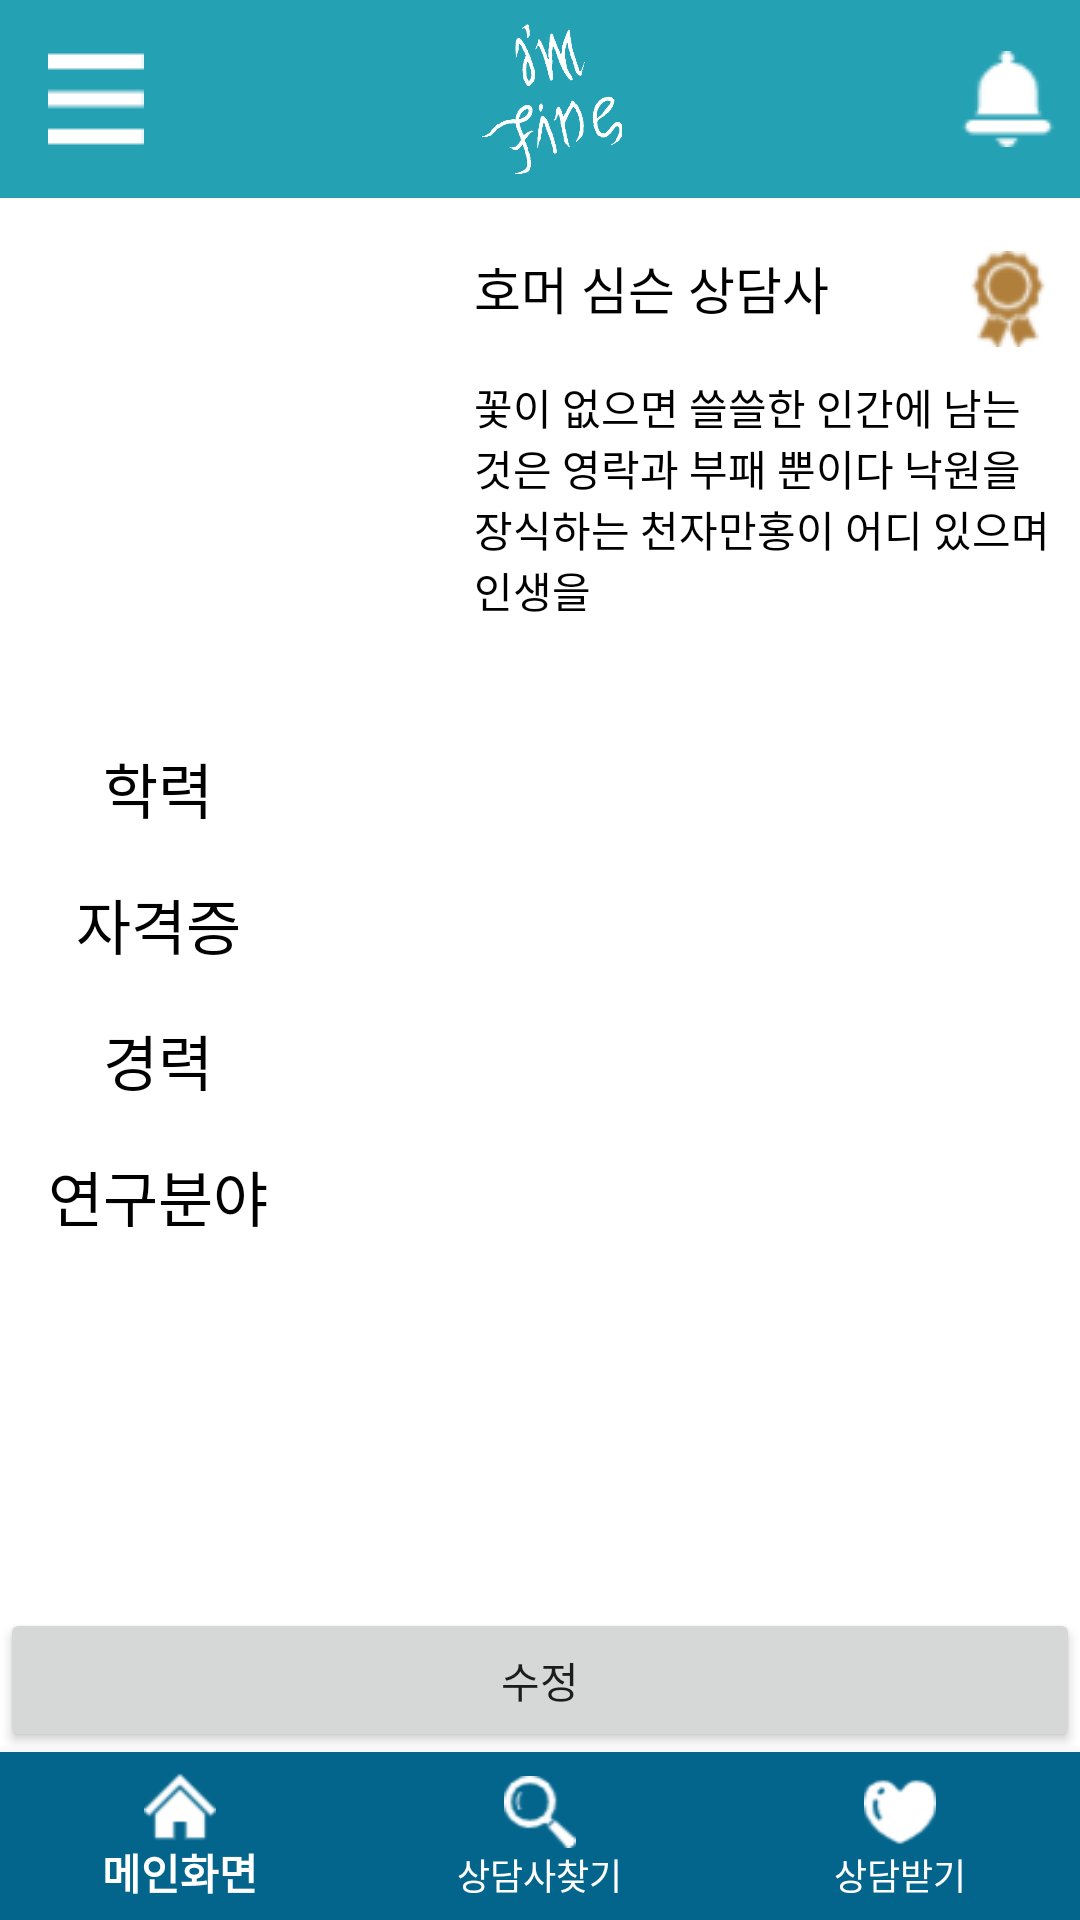

Screen size 1080*1920. Icon name, then its center in pixels as (x,y):
bell: (1008,99)
menu: (96,99)
